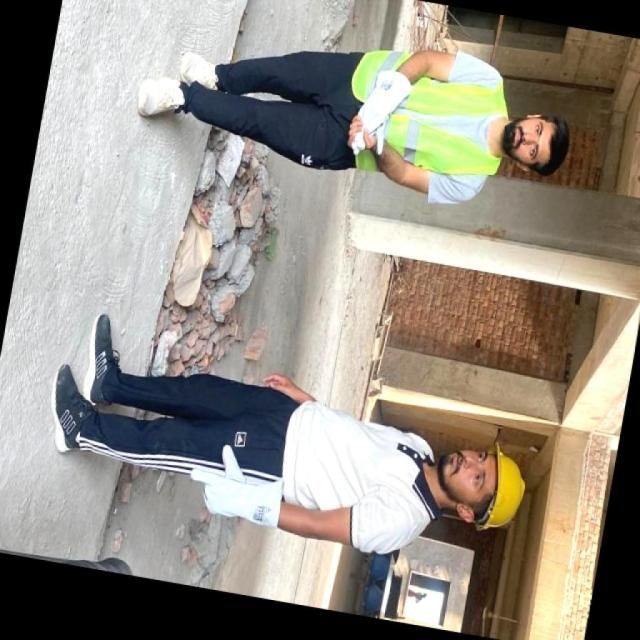Gloves-Detection: (194, 442, 284, 526), (352, 66, 398, 147)
